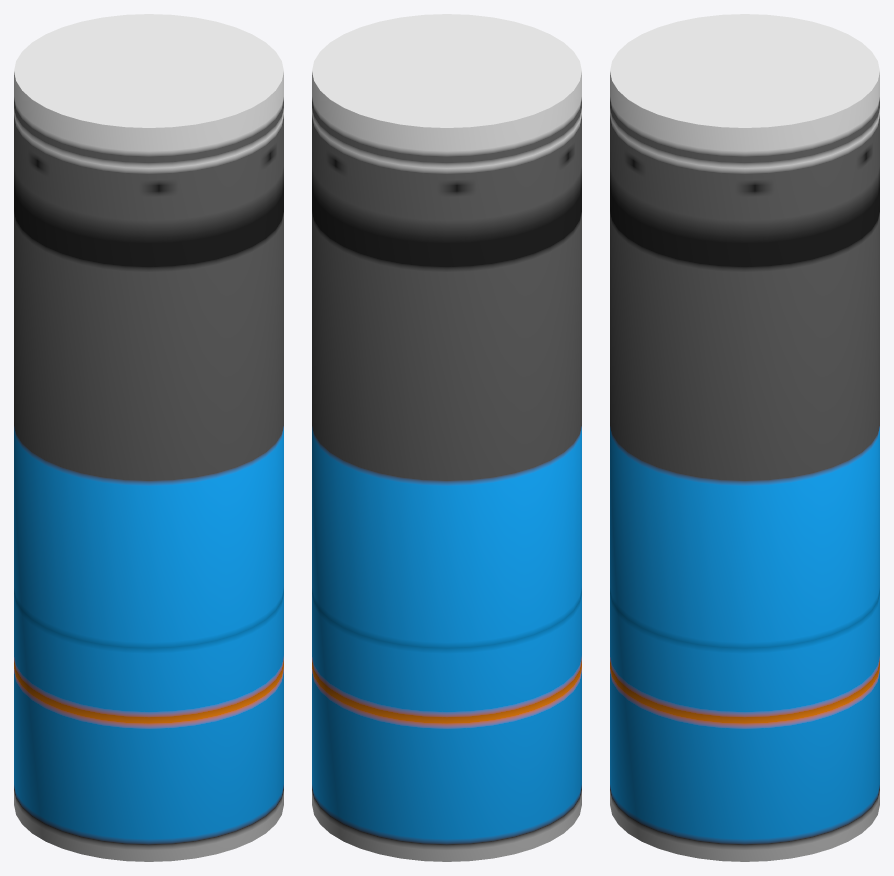
File: search2.obj
3 views of the same model, side by side, from view 1: azimuth 30°, elevation 25°; view 2: azimuth 150°, elevation 25°; view 3: azimuth 270°, elevation 25° (orthographic).
Parts seen in each view (by area): view 1: ColobotMesh_1_ColobotMesh_; view 2: ColobotMesh_1_ColobotMesh_; view 3: ColobotMesh_1_ColobotMesh_.
Boxes of the visible parts, x1=… form: ColobotMesh_1_ColobotMesh_: x1=14, y1=14, x2=283, y2=861; ColobotMesh_1_ColobotMesh_: x1=312, y1=14, x2=581, y2=861; ColobotMesh_1_ColobotMesh_: x1=610, y1=14, x2=879, y2=861.
Size of the model in its own units: 2 by 6 by 2.
